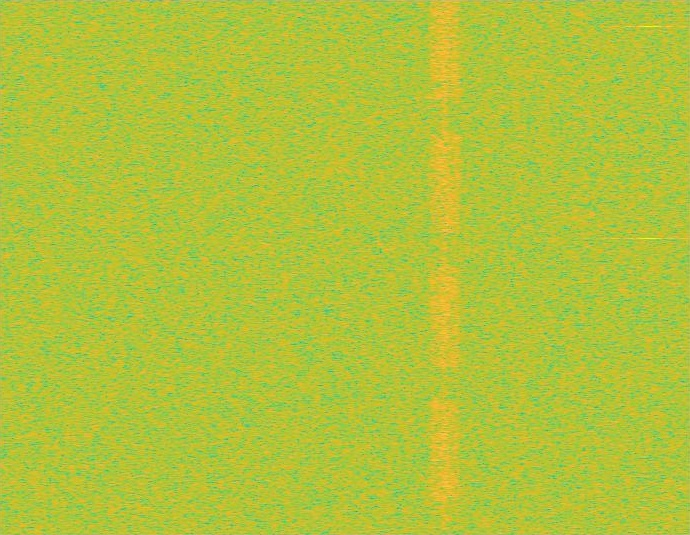5G: (428, 0, 462, 534)
DSSS: (441, 0, 449, 534)
Radar: (643, 0, 656, 534)
